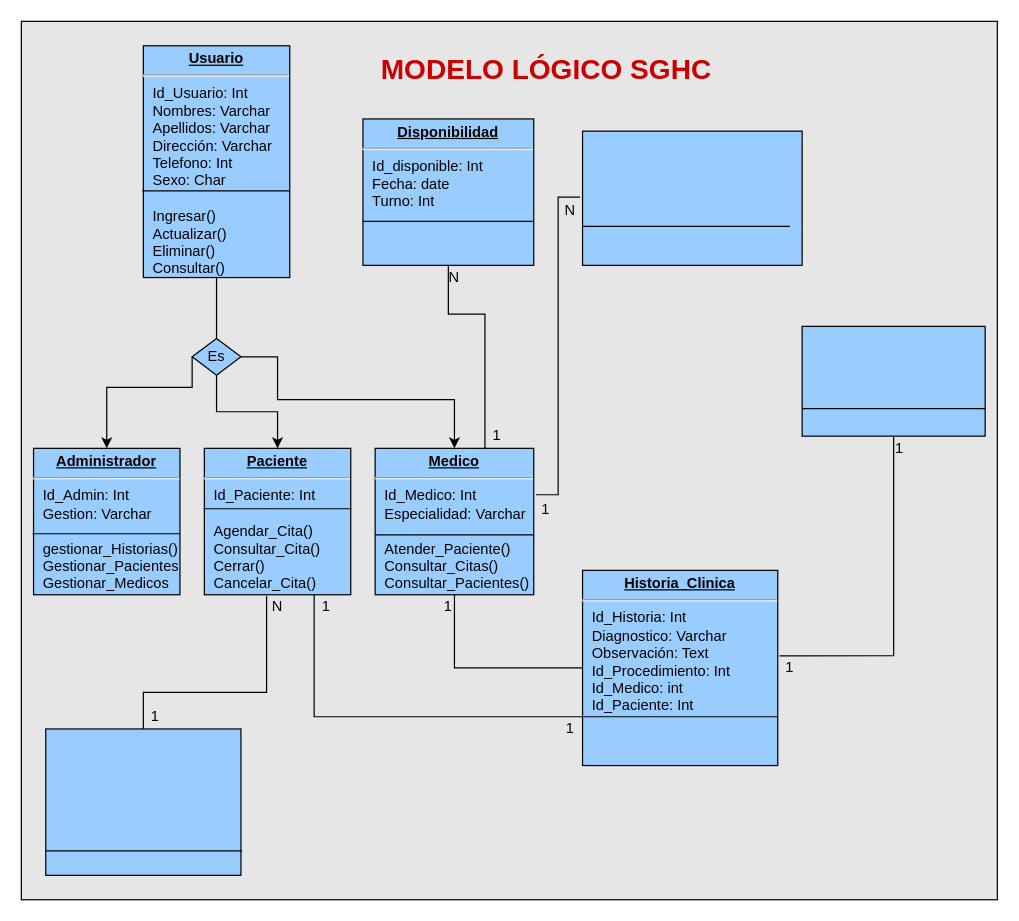
The diagram is 1019 pixels wide and 921 high, and some of its shapes have lost their labels. The box of each missing label's shape, as (x1, y1, x2, y2) in pixels:
Eps Id_Eps: Int Nombre: Varchar Regimen: Varchar Direccon: Varchar: (45, 728, 241, 875)
Especialidad Id_Especialidad: Int Id_Medico: Int Nombre_Especialidad: Varchar: (581, 130, 802, 265)
Procedimiento Id_Procedimiento: Int Descripción: Text: (801, 325, 985, 436)
